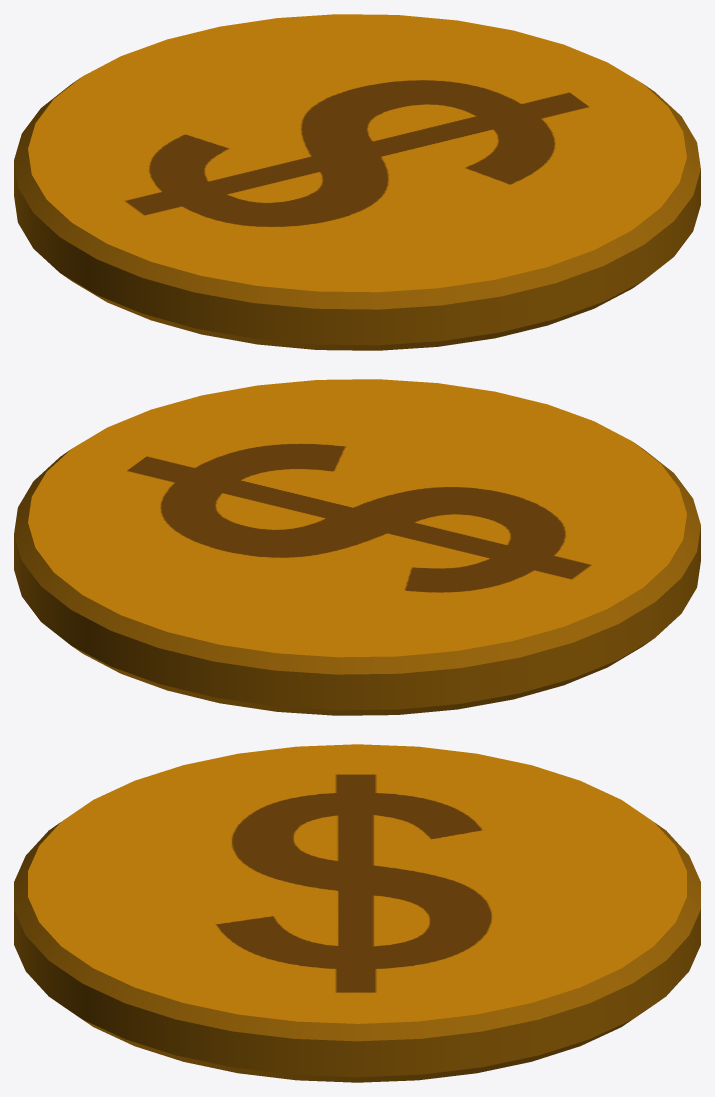
File: BIG COIN.fbx
3 renders of one model, top to bottom at view 1: azimuth 30°, elevation 25°; view 2: azimuth 150°, elevation 25°; view 3: azimuth 270°, elevation 25°, orthographic.
Parts seen in each view (by area): view 1: moneta; view 2: moneta; view 3: moneta.
Boxes of the visible parts, left/top/right/bottom form: moneta: left=14, top=14, right=700, bottom=350; moneta: left=14, top=379, right=700, bottom=715; moneta: left=14, top=744, right=700, bottom=1082.
Size of the model in its own units: 145 by 13.59 by 144.
1 material, 1 textured.
